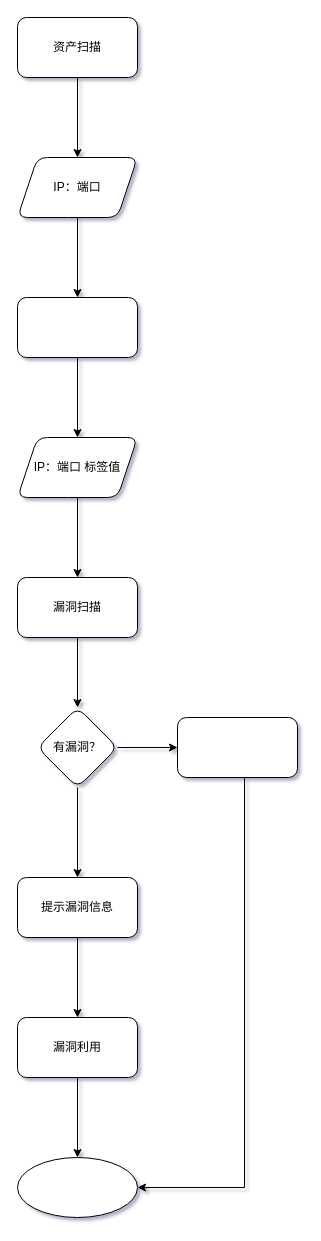
Some shapes in this 321 by 1241 pixel diagram are drawn without their labels. The centre of each missing label's shape, as x and y in pixels:
提示无漏洞: pixel 237 747
结束: pixel 77 1187
资产梳理: pixel 77 327
